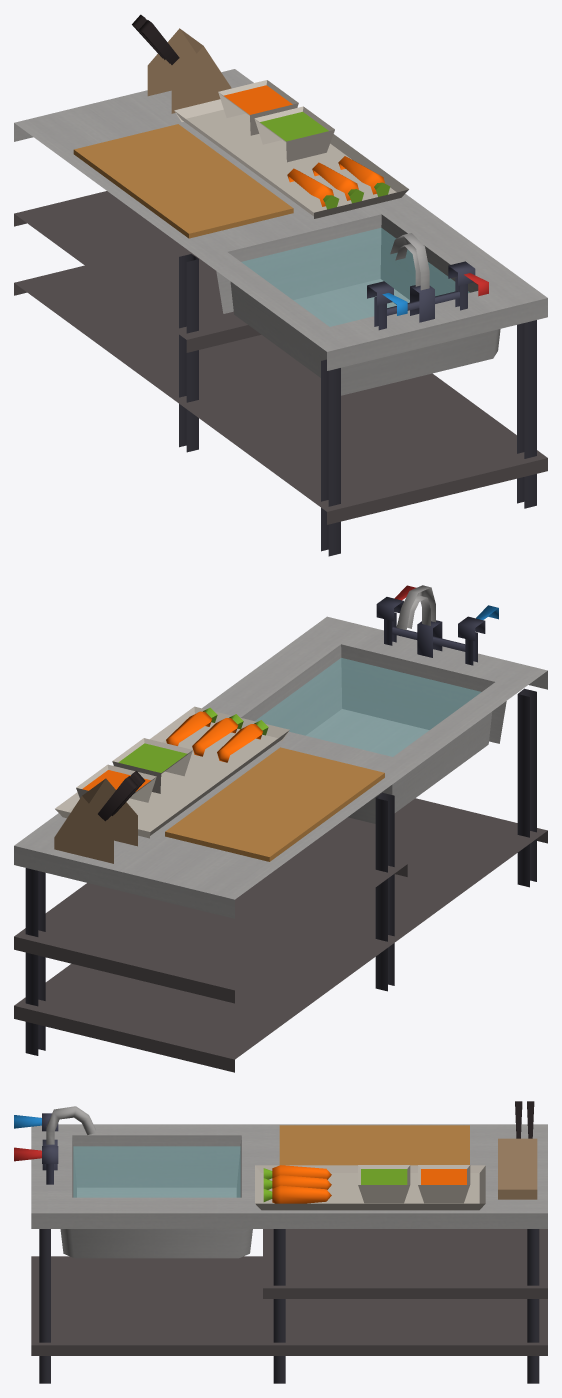
File: interior_B_013.fbx
3 renders of one model, top to bottom at view 1: azimuth 30°, elevation 25°; view 2: azimuth 150°, elevation 25°; view 3: azimuth 270°, elevation 25°, orthographic. The views are drawn at different scales.
Parts seen in each view (by area): view 1: interior_B_013; view 2: interior_B_013; view 3: interior_B_013.
Boxes of the visible parts, left/top/right/bottom form: interior_B_013: left=14, top=14, right=547, bottom=556; interior_B_013: left=14, top=585, right=547, bottom=1072; interior_B_013: left=14, top=1101, right=547, bottom=1383.
Size of the model in its own units: 80.66 by 103 by 205.
13 materials, 1 textured.
